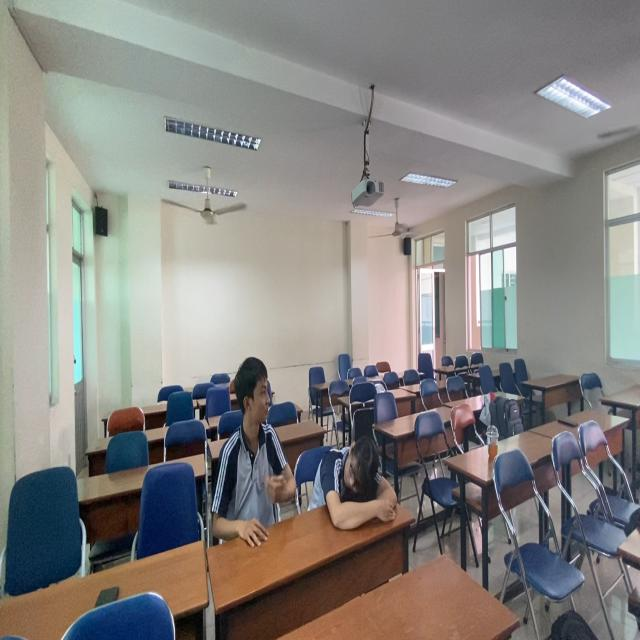sleep: (316, 432, 398, 535)
